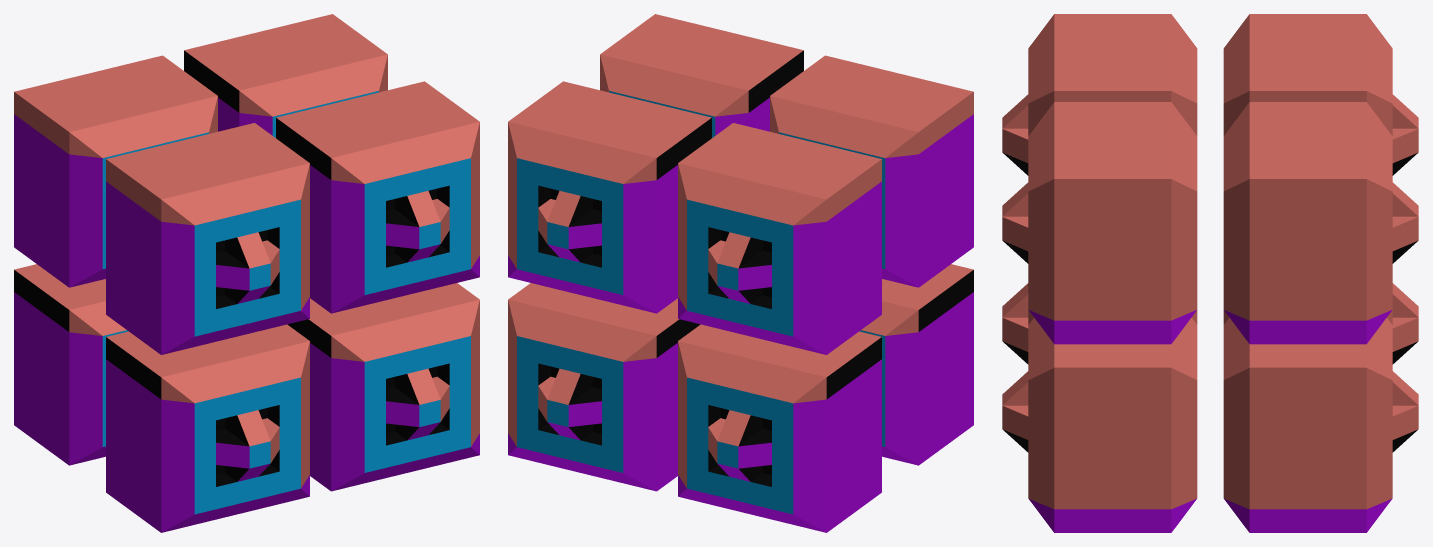
File: br-m-hall-purple.fbx
3 views of the same model, side by side, from view 1: azimuth 30°, elevation 25°; view 2: azimuth 150°, elevation 25°; view 3: azimuth 270°, elevation 25° (orthographic). The views are drawn at different scales.
Visible parts, largest first — view 1: hall_red; view 2: hall_red; view 3: hall_red.
Part boxes in pixels (x1,y1,x2,y2): hall_red: (14, 14, 479, 532); hall_red: (508, 14, 973, 532); hall_red: (1002, 14, 1418, 532).
Size of the model in its own units: 0.9375 by 0.9375 by 1.
